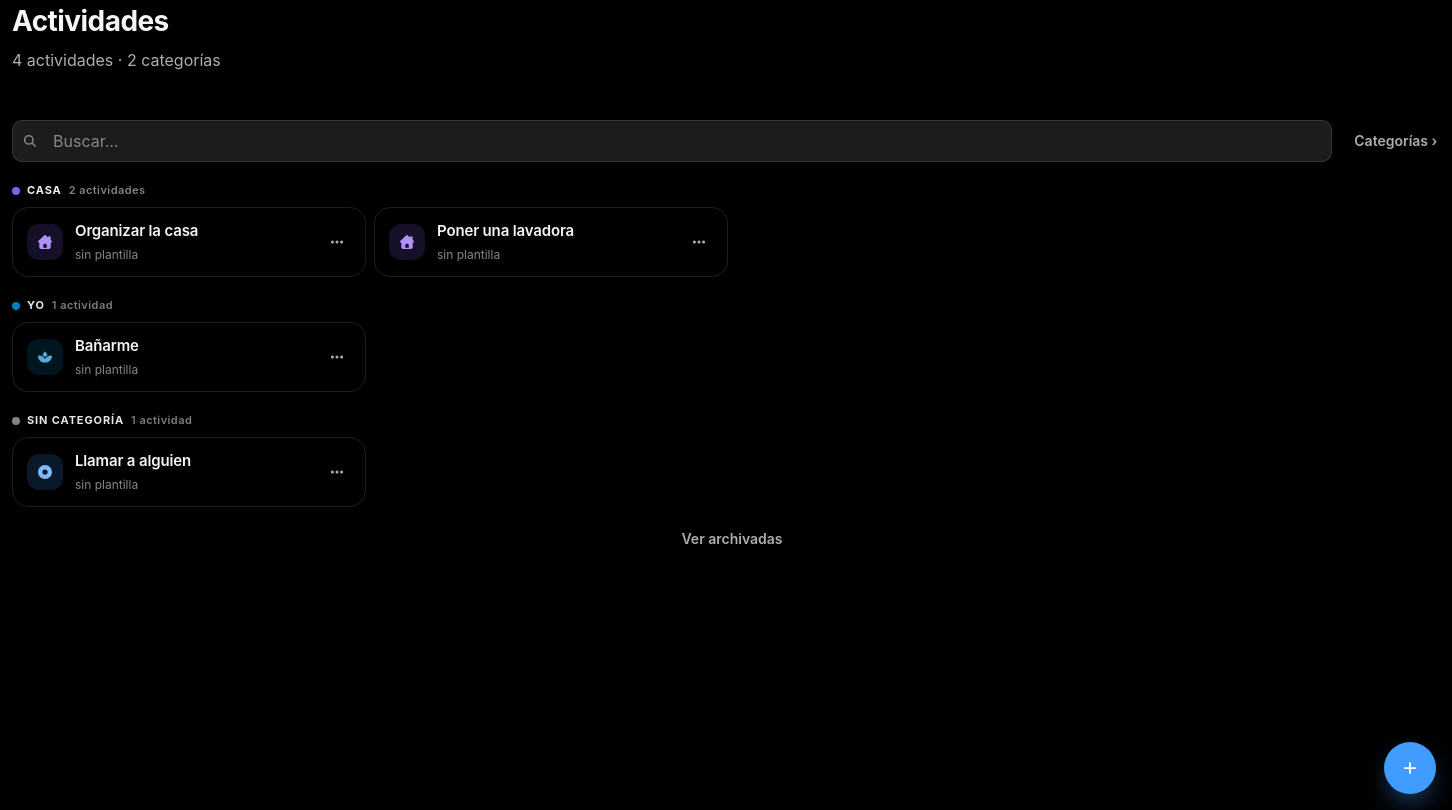
Test case: VidaActividadesPage › sin resultados lo dice con el texto buscado y deja limpiar (criterio 5)
In the search field named "Buscar actividades": (672, 141) [12,120,1332,162], type "zzz"
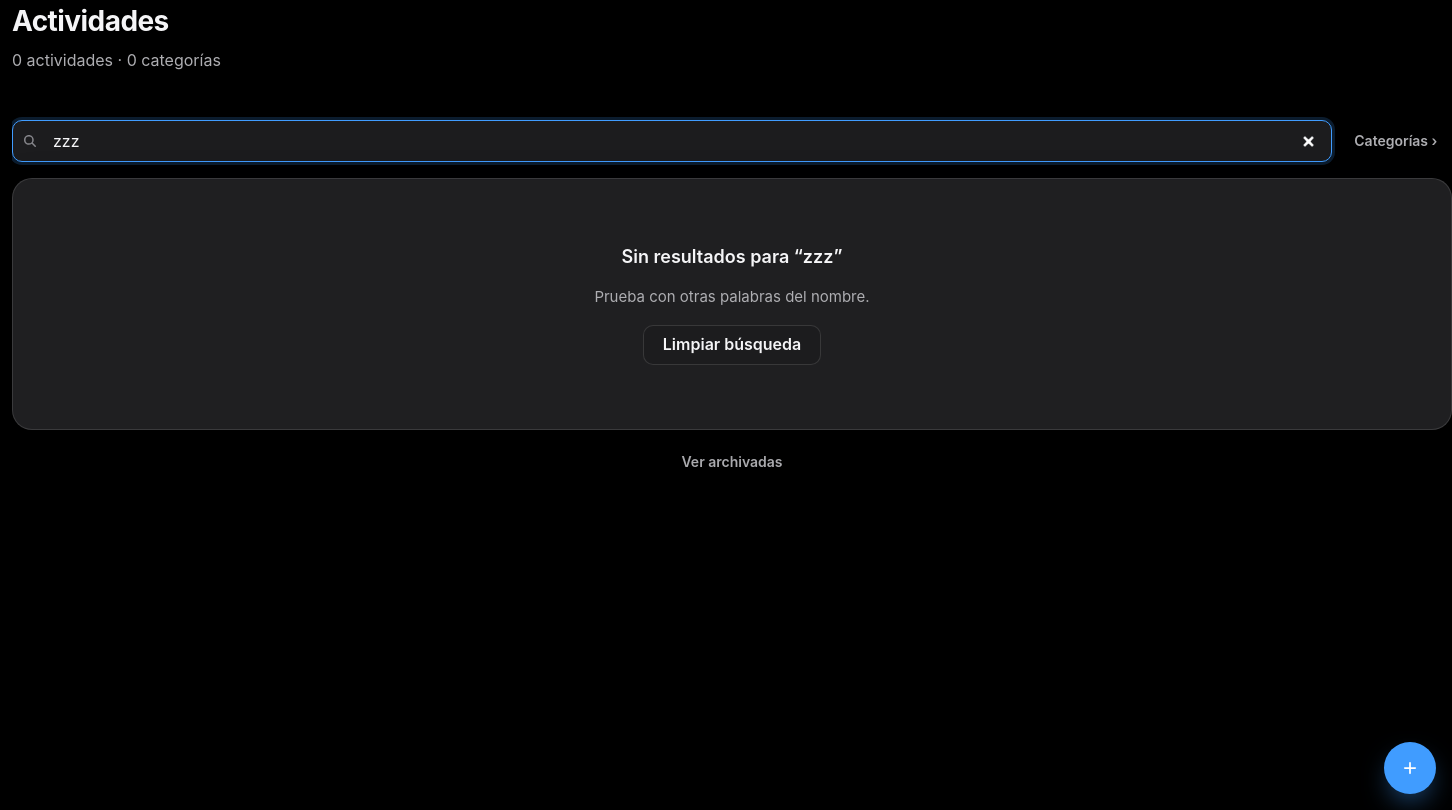
Now the heading "Sin resultados para “zzz”" is shown, box [622,243,842,270]
Click the button "Limpiar búsqueda": (732, 345) [643,325,821,365]
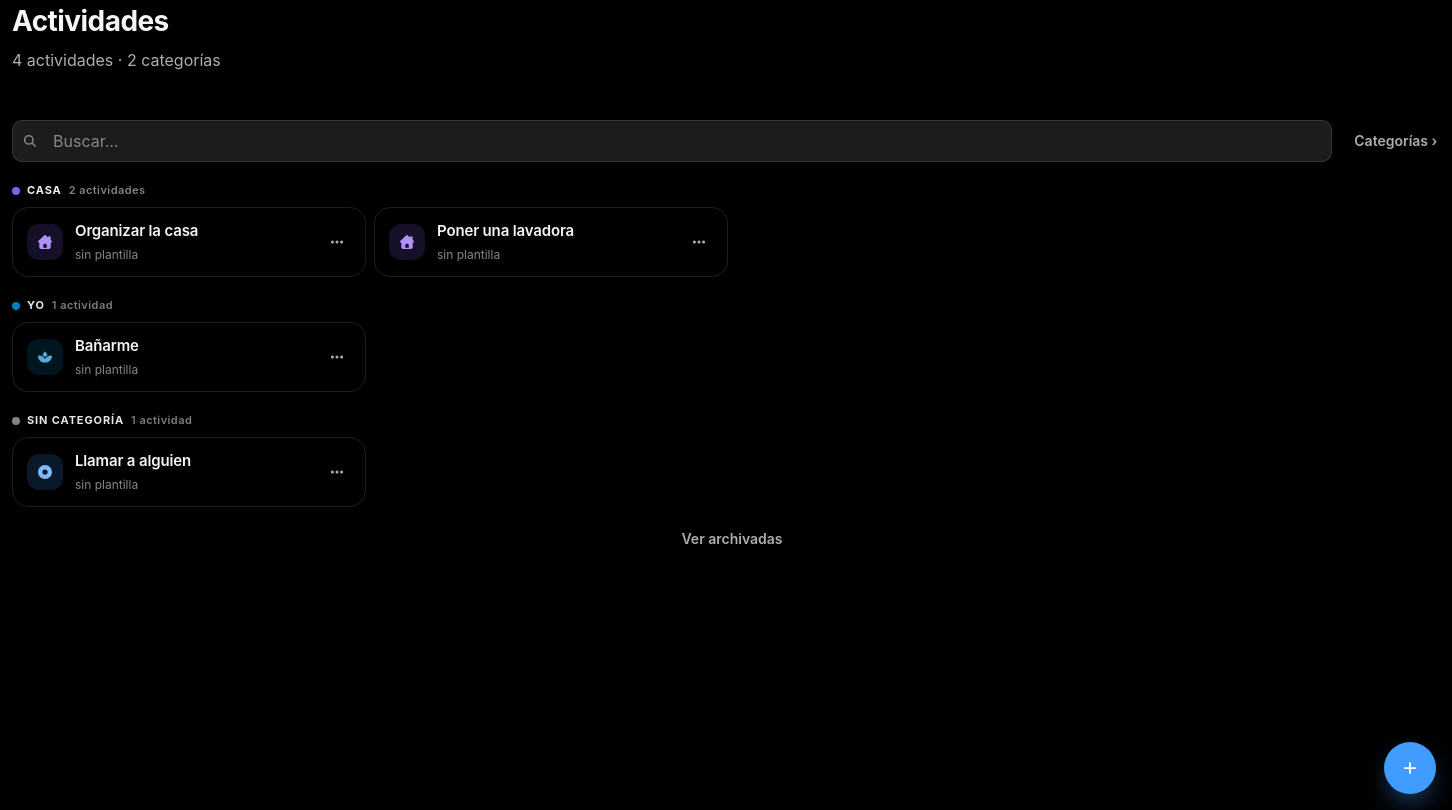
Now the text "Organizar la casa" is shown, box [75,221,198,240]
Now the search field named "Buscar actividades" is empty, box [12,120,1332,162]
